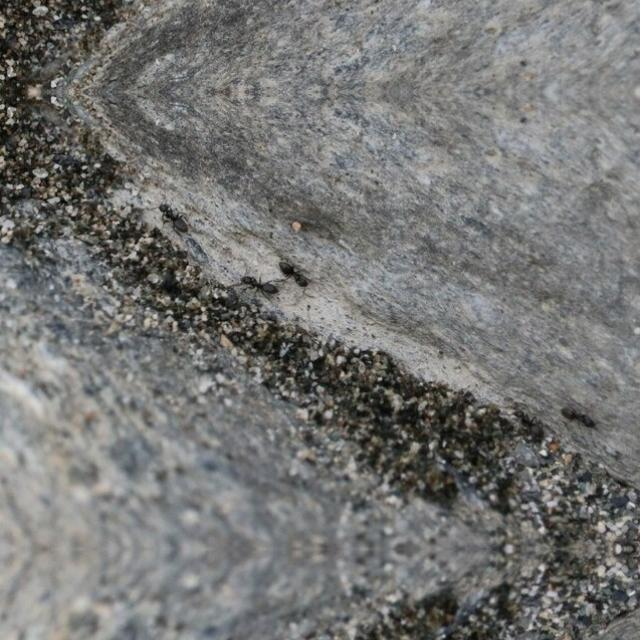Tapinoma: (152, 198, 195, 234), (237, 271, 286, 299), (274, 256, 312, 288), (559, 404, 601, 428), (512, 406, 542, 436)
